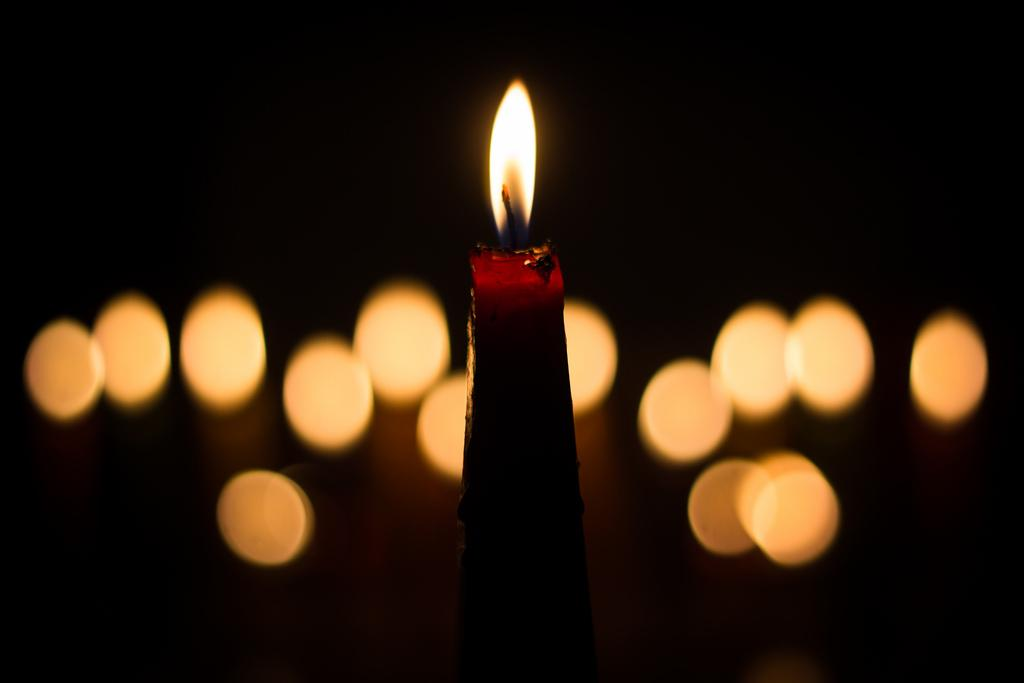fire: (490, 82, 540, 235)
